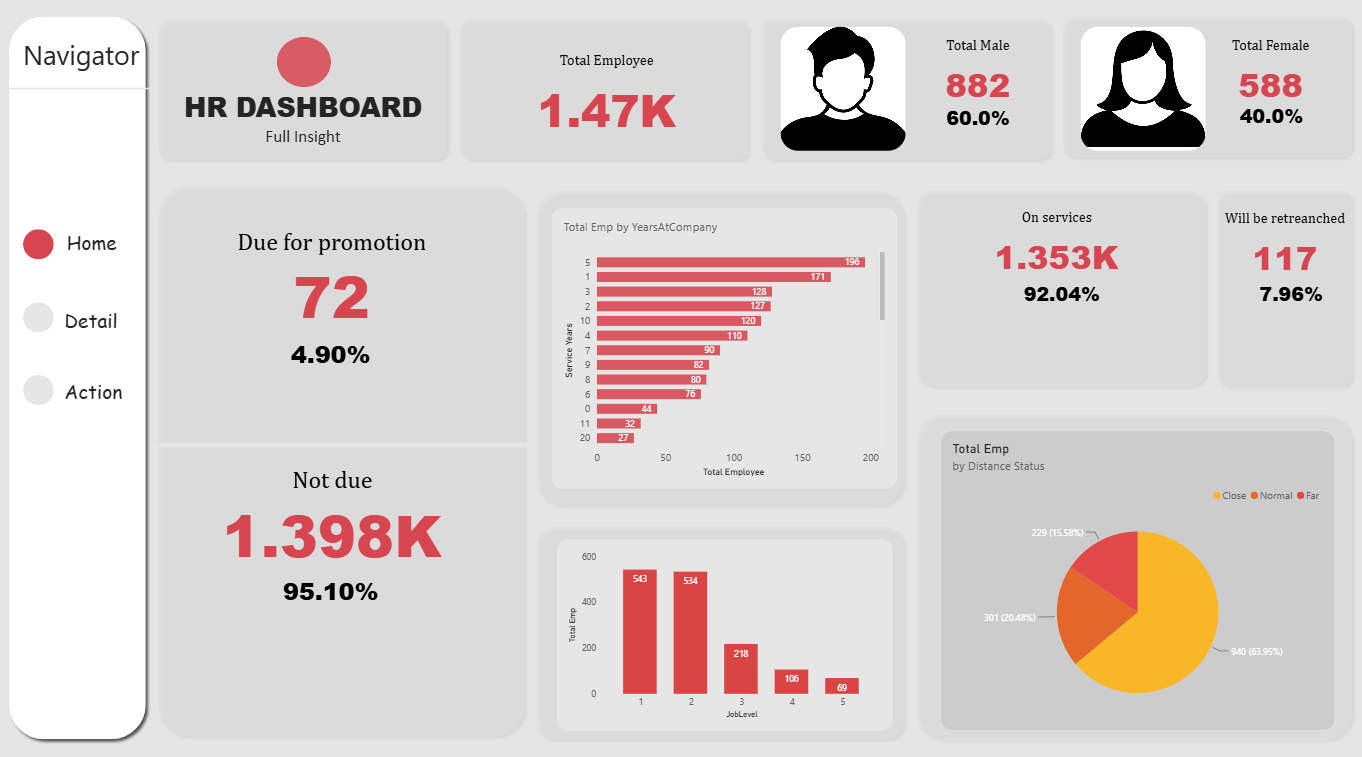

The page's visual inventory and layout, read from the dashboard file:
{"tool":"powerbi","page":{"name":"Home","canvas":[1920,1080],"ordinal":0},"visuals":[{"type":"shape","box":[14.5,25.3,208.1,1027.9],"z":0},{"type":"shape","box":[222.6,27.1,421.7,213.5],"z":1000},{"type":"shape","box":[644.2,27.1,421.7,213.5],"z":2000},{"type":"shape","box":[1065.9,27.1,421.7,213.5],"z":3000},{"type":"shape","box":[1487.5,25.3,421.7,213.5],"z":4000},{"type":"shape","box":[222.6,262.4,530.2,785.4],"z":5000},{"type":"shape","box":[752.8,267.8,530.2,457.8],"z":6000},{"type":"shape","box":[752.8,738.3,530.2,314.9],"z":7000},{"type":"shape","box":[1283,267.8,421.7,291.4],"z":8000},{"type":"shape","box":[1704.7,267.8,204.5,291.4],"z":9000},{"type":"shape","box":[1283,580.9,626.1,472.3],"z":10000},{"type":"textbox","box":[175.5,132.1,517.6,260.6],"z":11000},{"type":"shape","box":[396.3,61.5,76,70.6],"z":12000},{"type":"cardVisual","title":"Total Male","fields":{"Data":["All mesures.Total Male"]},"box":[1221.5,61.5,311.3,162.9],"z":13000},{"type":"cardVisual","title":"Total Employee","fields":{"Data":["All mesures.Total Emp"]},"box":[703.1,82.4,311.3,121.2],"z":14000},{"type":"cardVisual","title":"Total Male","fields":{"Data":["All mesures.% Male"]},"box":[1237.8,133.9,280.5,146.6],"z":15000},{"type":"cardVisual","title":"Total Female","fields":{"Data":["All mesures.Total Female"]},"box":[1697.5,61.5,179.2,162.9],"z":16000},{"type":"cardVisual","title":"Total Male","fields":{"Data":["All mesures.% Female"]},"box":[1715.6,132.1,146.6,146.6],"z":17000},{"type":"image","box":[1102.1,47.1,175.5,173.7],"z":18000},{"type":"image","box":[1521.9,47.1,175.5,173.7],"z":19000},{"type":"cardVisual","title":"Due for promotion","fields":{"Data":["All mesures.Not due"]},"box":[318.5,327.5,311.3,137.5],"z":20000},{"type":"cardVisual","title":"Total Male","fields":{"Data":["All mesures.% Due for promotion"]},"box":[333,465.1,280.5,146.6],"z":21000},{"type":"cardVisual","title":"Not due","fields":{"Data":["All mesures.Not due"]},"box":[271.4,660.5,407.2,137.5],"z":22000},{"type":"cardVisual","title":"Total Male","fields":{"Data":["All mesures.% Not due"]},"box":[333,798.1,280.5,146.6],"z":23000},{"type":"shape","box":[222.6,483.2,530.2,300.4],"z":24000},{"type":"barChart","fields":{"Category":["HR Analytics Data.YearsAtCompany"],"Y":["All mesures.Total Emp"]},"box":[781.8,300.4,483.2,392.7],"z":25000},{"type":"columnChart","fields":{"Category":["HR Analytics Data.JobLevel"],"Y":["All mesures.Total Emp"]},"box":[789,763.7,470.5,267.8],"z":26000},{"type":"cardVisual","title":"On services","fields":{"Data":["All mesures.On services"]},"box":[1331.9,300.4,311.3,162.9],"z":27000},{"type":"cardVisual","title":"Will be retreanched","fields":{"Data":["All mesures.Will be retreanched"]},"box":[1722.8,302.2,170.1,162.9],"z":28000},{"type":"cardVisual","title":"Total Male","fields":{"Data":["All mesures.% On services","All mesures.% On services"]},"box":[1355.4,381.8,280.5,146.6],"z":29000},{"type":"cardVisual","title":"Total Male","fields":{"Data":["All mesures.% Will be retreanched"]},"box":[1724.6,381.8,184.6,146.6],"z":30000},{"type":"pieChart","fields":{"Category":["HR Analytics Data.Distance Status"],"Y":["All mesures.Total Emp"]},"box":[1324.7,611.7,551.9,419.8],"z":31000},{"type":"shape","box":[14.5,25.3,208.1,1027.9],"z":31001},{"type":"pageNavigator","box":[41.6,331.2,43.4,247.9],"z":31002},{"type":"textbox","box":[103.2,331.2,88.7,61.5],"z":31003},{"type":"textbox","box":[99.5,439.7,300.4,99.5],"z":31004},{"type":"textbox","box":[99.5,539.3,300.4,88.7],"z":31005},{"type":"textbox","box":[41.6,61.5,181,72.4],"z":31006},{"type":"shape","box":[14.5,114,208.1,39.8],"z":31007}]}

Visuals, with their boxes in screenshot pixels (x1, y1, x2, y2), scaled from the page's 1920x1080 canvas onto the 1362x757 screenshot:
shape: [left=10, top=18, right=158, bottom=738]
shape: [left=158, top=19, right=457, bottom=169]
shape: [left=457, top=19, right=756, bottom=169]
shape: [left=756, top=19, right=1055, bottom=169]
shape: [left=1055, top=18, right=1354, bottom=167]
shape: [left=158, top=184, right=534, bottom=734]
shape: [left=534, top=188, right=910, bottom=509]
shape: [left=534, top=517, right=910, bottom=738]
shape: [left=910, top=188, right=1209, bottom=392]
shape: [left=1209, top=188, right=1354, bottom=392]
shape: [left=910, top=407, right=1354, bottom=738]
textbox: [left=124, top=93, right=492, bottom=275]
shape: [left=281, top=43, right=335, bottom=93]
"Total Male" cardVisual: [left=867, top=43, right=1087, bottom=157]
"Total Employee" cardVisual: [left=499, top=58, right=720, bottom=143]
"Total Male" cardVisual: [left=878, top=94, right=1077, bottom=197]
"Total Female" cardVisual: [left=1204, top=43, right=1331, bottom=157]
"Total Male" cardVisual: [left=1217, top=93, right=1321, bottom=195]
image: [left=782, top=33, right=906, bottom=155]
image: [left=1080, top=33, right=1204, bottom=155]
"Due for promotion" cardVisual: [left=226, top=230, right=447, bottom=326]
"Total Male" cardVisual: [left=236, top=326, right=435, bottom=429]
"Not due" cardVisual: [left=193, top=463, right=481, bottom=559]
"Total Male" cardVisual: [left=236, top=559, right=435, bottom=662]
shape: [left=158, top=339, right=534, bottom=549]
barChart - HR Analytics Data.YearsAtCompany x All mesures.Total Emp: [left=555, top=211, right=897, bottom=486]
columnChart - HR Analytics Data.JobLevel x All mesures.Total Emp: [left=560, top=535, right=893, bottom=723]
"On services" cardVisual: [left=945, top=211, right=1166, bottom=325]
"Will be retreanched" cardVisual: [left=1222, top=212, right=1343, bottom=326]
"Total Male" cardVisual: [left=961, top=268, right=1160, bottom=370]
"Total Male" cardVisual: [left=1223, top=268, right=1354, bottom=370]
pieChart - HR Analytics Data.Distance Status x All mesures.Total Emp: [left=940, top=429, right=1331, bottom=723]
shape: [left=10, top=18, right=158, bottom=738]
pageNavigator: [left=30, top=232, right=60, bottom=406]
textbox: [left=73, top=232, right=136, bottom=275]
textbox: [left=71, top=308, right=284, bottom=378]
textbox: [left=71, top=378, right=284, bottom=440]
textbox: [left=30, top=43, right=158, bottom=94]
shape: [left=10, top=80, right=158, bottom=108]
